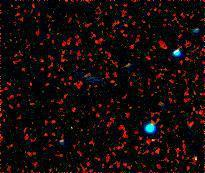star: (182, 141, 205, 171)
